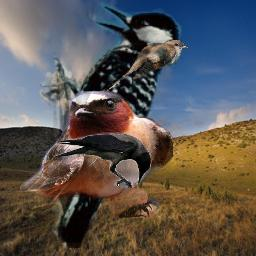Crow: (54, 132, 151, 188)
Cuckoo: (100, 39, 190, 97)
Swallow: (20, 91, 173, 218)
Woodpecker: (40, 1, 186, 248)
